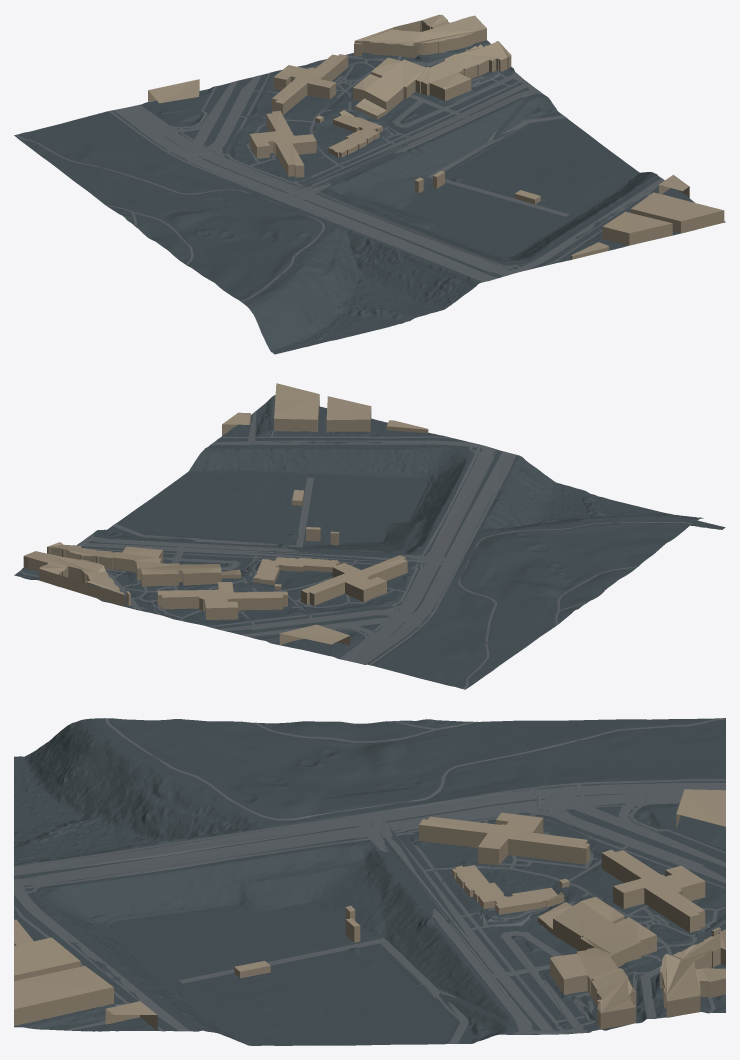
Rendered from epsg26910-1420-10873.lod0.glb.
The picture shows the model from 3 angles, top to bottom: view 1: azimuth 30°, elevation 25°; view 2: azimuth 150°, elevation 25°; view 3: azimuth 270°, elevation 25°; orthographic projection. The views are drawn at different scales.
Visible parts, largest first — view 1: epsg26910-1420-10873-lod0; view 2: epsg26910-1420-10873-lod0; view 3: epsg26910-1420-10873-lod0.
Part boxes in pixels (bbox=[...]): epsg26910-1420-10873-lod0: bbox=[14, 14, 725, 354]; epsg26910-1420-10873-lod0: bbox=[14, 383, 725, 689]; epsg26910-1420-10873-lod0: bbox=[14, 718, 725, 1045].
Size of the model in its own units: 384 by 37.52 by 384.
